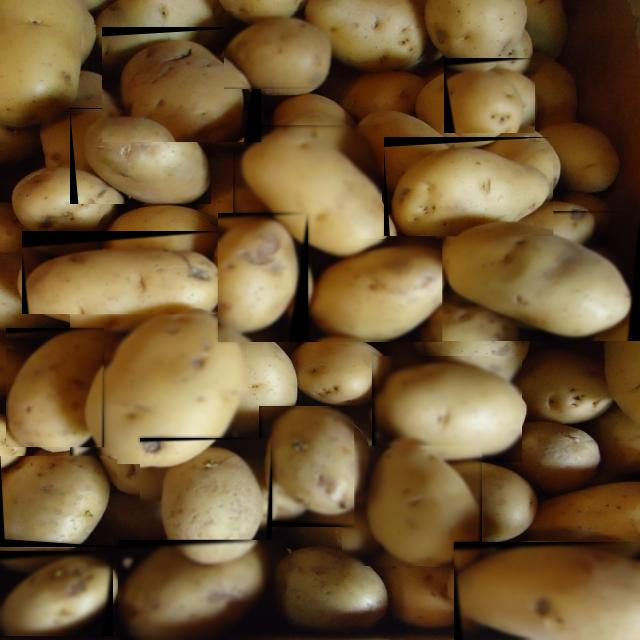potato: (70, 298, 247, 464), (436, 211, 640, 341), (102, 27, 261, 142), (454, 542, 640, 640), (233, 125, 382, 247), (140, 438, 272, 568), (22, 231, 227, 314), (342, 446, 482, 566), (384, 137, 553, 236), (372, 357, 522, 462), (118, 540, 274, 640), (300, 239, 442, 342), (70, 108, 211, 204), (6, 328, 104, 447), (218, 213, 308, 342), (259, 406, 354, 527), (0, 456, 117, 547), (0, 551, 113, 636), (224, 11, 338, 89), (444, 58, 535, 133)
